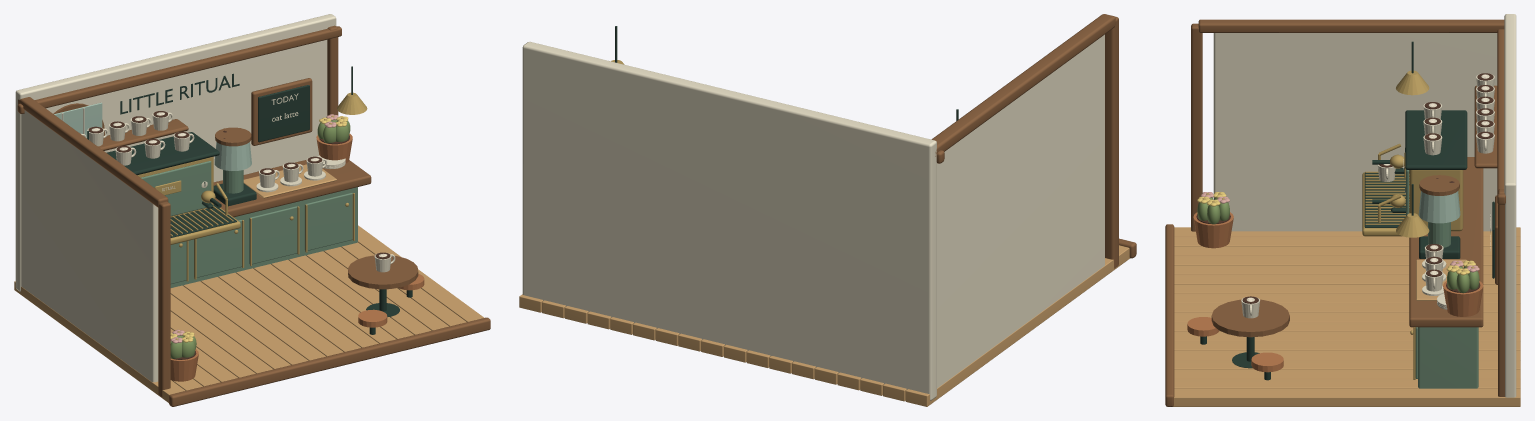
Rendered from cafe.glb.
3 views of the same model, side by side, from view 1: azimuth 30°, elevation 25°; view 2: azimuth 150°, elevation 25°; view 3: azimuth 270°, elevation 25° (orthographic). The views are drawn at different scales.
Visible parts, largest first — view 1: Cafe side wall, Back plaster wall, Floor front trim, Backwall trim, Sidewall beam, Timber pillar, Countertop, Front counter, Chalk face, Cabinet door.004, Cabinet door.003, Machine front (+37 smaller); view 2: Back plaster wall, Cafe side wall, Sidewall beam, Timber pillar, Oak floorboard; view 3: Cafe side wall, Oak floorboard.017, Back plaster wall, Countertop, Sidewall beam, Front counter, Machine top, Oak floorboard.003, Oak floorboard.016, Oak floorboard.012, Oak floorboard.006, Oak floorboard.015 (+32 smaller).
Boxes of the visible parts, left/top/right/bottom form: Cafe side wall: left=21, top=110, right=158, bottom=382; Back plaster wall: left=15, top=14, right=336, bottom=291; Floor front trim: left=169, top=317, right=490, bottom=406; Backwall trim: left=17, top=26, right=341, bottom=113; Sidewall beam: left=18, top=97, right=168, bottom=207; Timber pillar: left=158, top=201, right=170, bottom=396; Countertop: left=213, top=160, right=371, bottom=217; Front counter: left=170, top=187, right=357, bottom=287; Chalk face: left=258, top=85, right=309, bottom=142; Cabinet door.004: left=304, top=192, right=352, bottom=250; Cabinet door.003: left=249, top=206, right=297, bottom=264; Machine front: left=140, top=161, right=211, bottom=216; Back plaster wall: left=522, top=41, right=936, bottom=400; Cafe side wall: left=937, top=34, right=1104, bottom=388; Sidewall beam: left=931, top=14, right=1115, bottom=156; Timber pillar: left=1105, top=16, right=1118, bottom=268; Oak floorboard: left=905, top=245, right=1129, bottom=406; Cafe side wall: left=1213, top=33, right=1497, bottom=231; Oak floorboard.017: left=1172, top=388, right=1520, bottom=406; Back plaster wall: left=1504, top=14, right=1516, bottom=397; Countertop: left=1409, top=157, right=1483, bottom=327; Sidewall beam: left=1198, top=19, right=1504, bottom=32; Front counter: left=1418, top=327, right=1478, bottom=388; Machine top: left=1405, top=110, right=1467, bottom=169; Oak floorboard.003: left=1174, top=255, right=1520, bottom=265; Oak floorboard.016: left=1174, top=379, right=1520, bottom=388; Oak floorboard.012: left=1174, top=341, right=1520, bottom=350; Oak floorboard.006: left=1174, top=284, right=1520, bottom=293; Oak floorboard.015: left=1174, top=369, right=1520, bottom=379.
Size of the model in its own units: 6.1 by 3.65 by 5.26.
